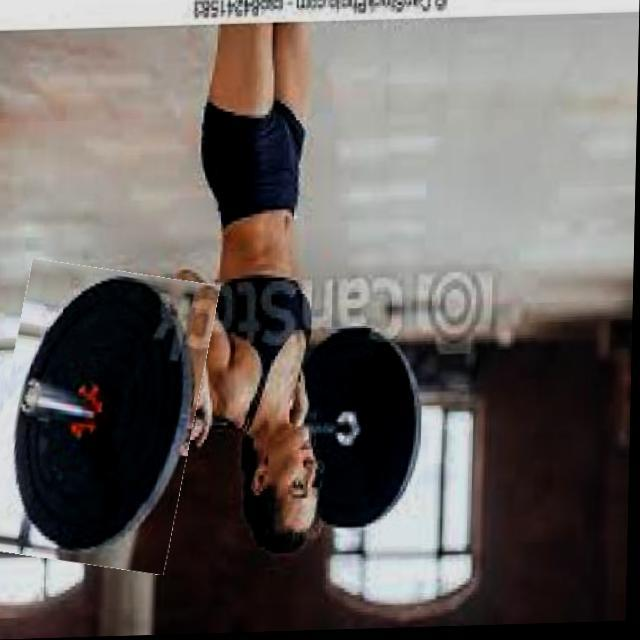barbell: (1, 263, 211, 574)
